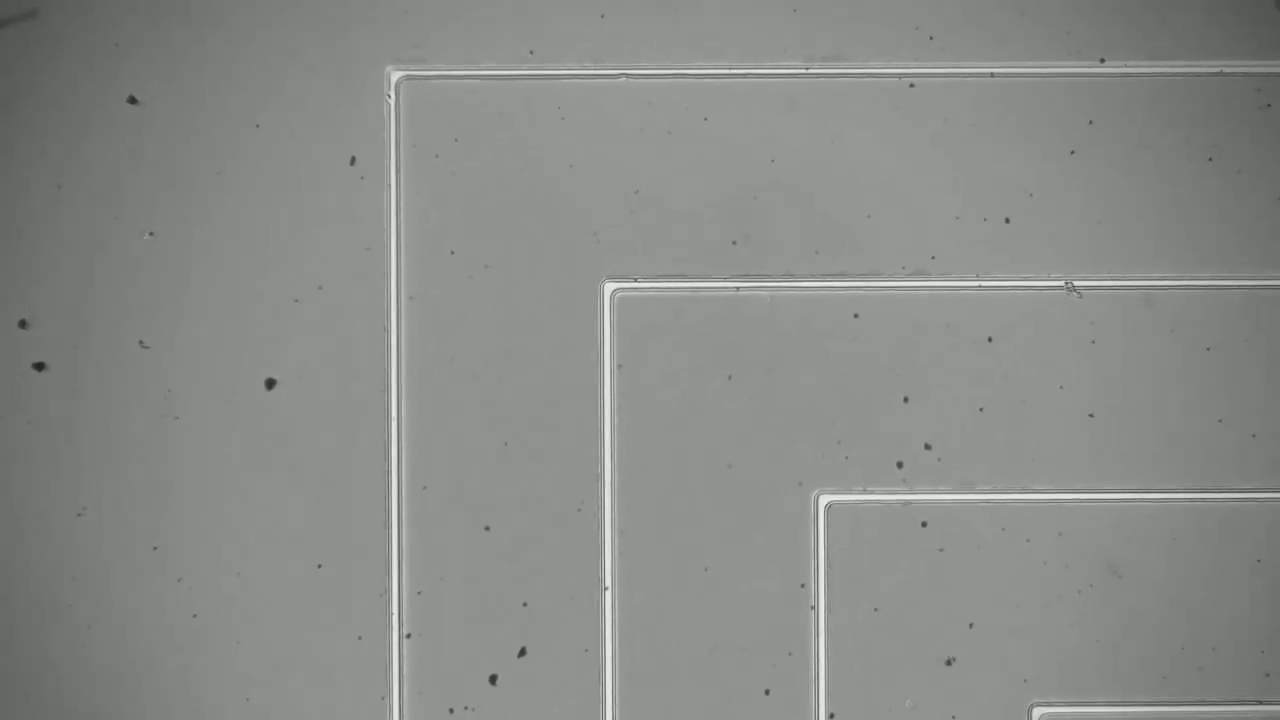stains_enbedded: (1056, 270, 1092, 303)
